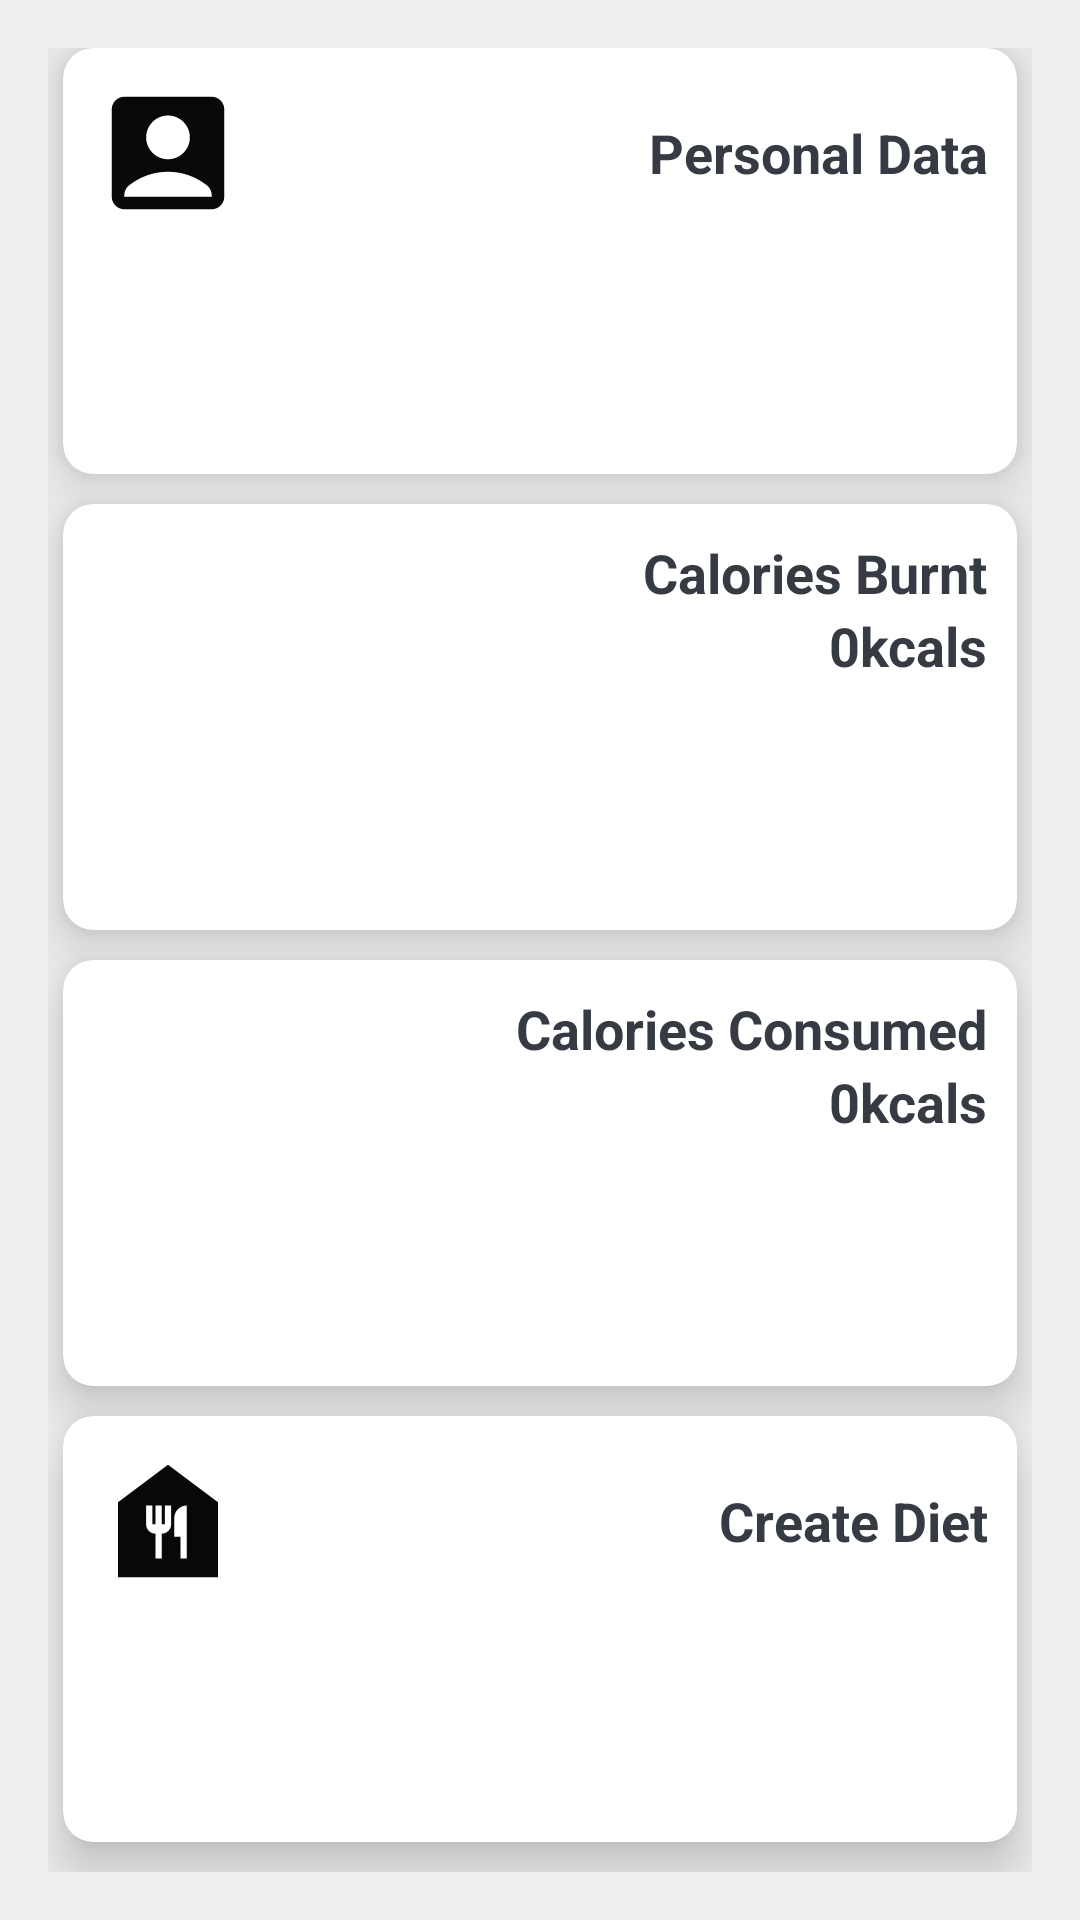

Locate icon controls on the screen. Image size 1080px x 1920px, boxes as (x1, y1, x2, y2).
account box: (111, 96, 225, 210)
